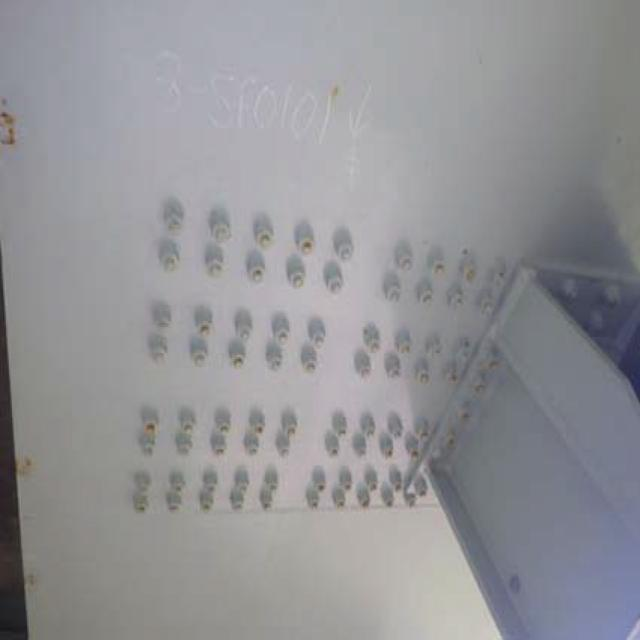corrosion: (134, 406, 463, 513)
